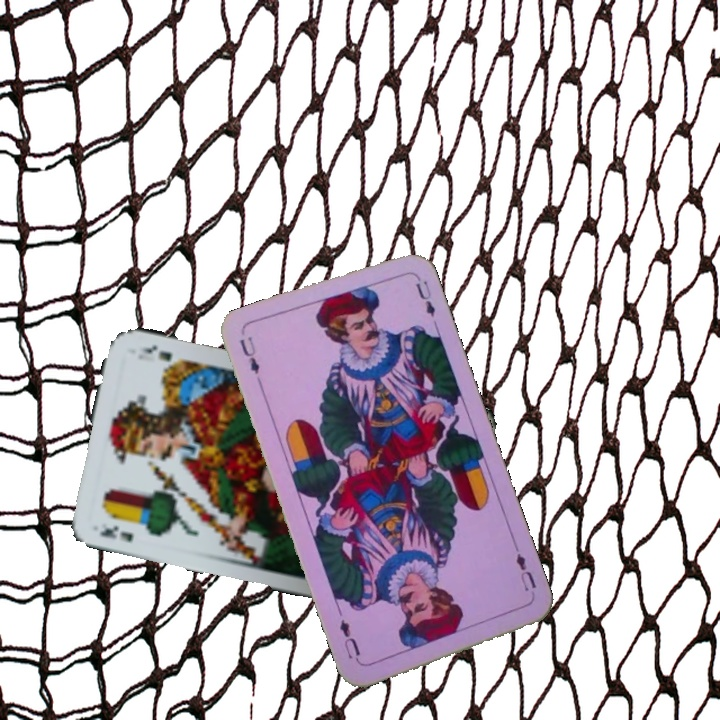EK: (96, 521, 136, 545)
EU: (512, 549, 539, 595), (235, 332, 262, 377)
